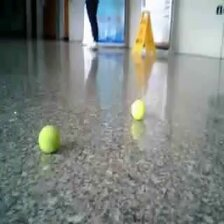tennis: (38, 125, 62, 153), (131, 99, 145, 121)
